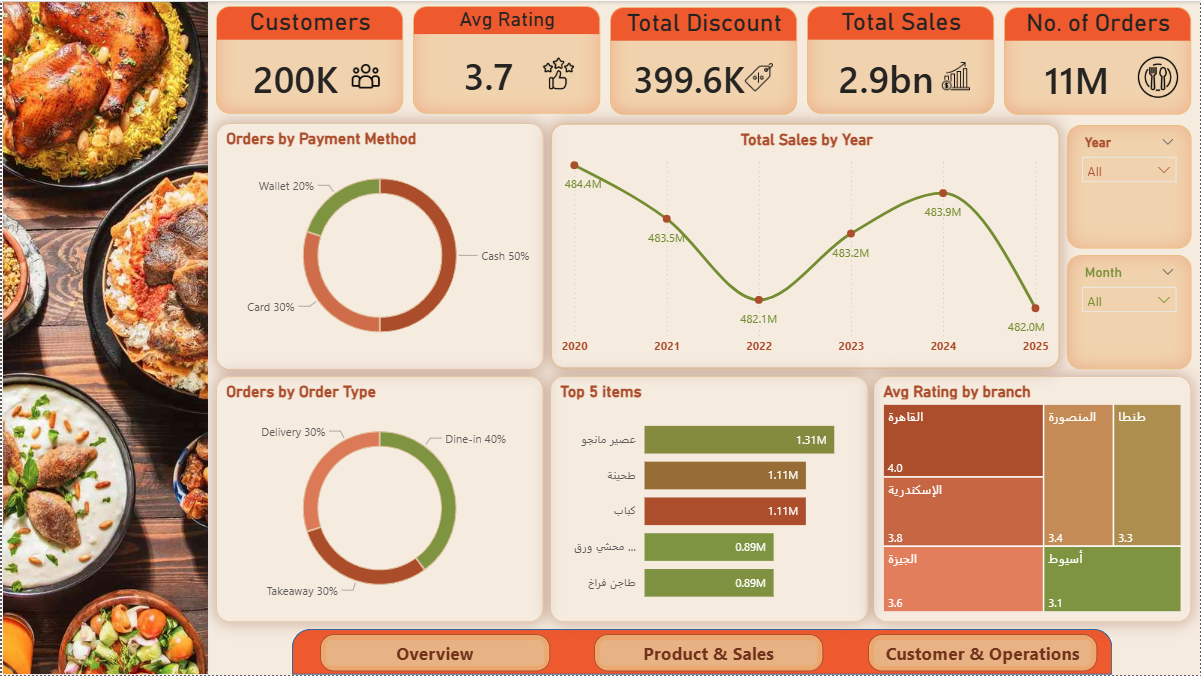

Layout of this report page (visuals, bound fields, positions):
{"tool":"powerbi","page":{"name":"overview ","canvas":[1280,720],"ordinal":0},"visuals":[{"type":"image","box":[0,0,221,720.3],"z":0},{"type":"cardVisual","title":"Total Discount","fields":{"Data":["Table_Measures.Total Discount"]},"box":[649.8,6.9,199.6,115.4],"z":1000},{"type":"cardVisual","title":"Total Sales","fields":{"Data":["Table_Measures.Total Sales"]},"box":[860.3,5.8,199.6,115.4],"z":2000},{"type":"cardVisual","title":"No. of Orders","fields":{"Data":["Table_Measures.No. of Orders"]},"box":[1070.8,6.9,199.6,115.4],"z":3000},{"type":"shape","box":[310,671.2,876.2,48.8],"z":4000},{"type":"lineChart","title":"Total Sales by Year","fields":{"Y":["Table_Measures.Total Sales"],"Category":["dim_date.order_date.Variation.Date Hierarchy.Year"]},"box":[585,130.4,544.6,263.1],"z":5000},{"type":"treemap","fields":{"Group":["dim_brach.branch"],"Values":["Table_Measures.Avg Rating"]},"box":[930,400.4,340.4,263.1],"z":6000},{"type":"cardVisual","title":"Customers","fields":{"Data":["Table_Measures.NO. of Customers"]},"box":[228.5,5.8,200,115.4],"z":7000},{"type":"donutChart","title":"Orders by Payment Method","fields":{"Category":["dim_payment.payment_method"],"Y":["Table_Measures.No. of Orders"]},"box":[228.8,130,350,263.8],"z":8000},{"type":"shape","box":[339.2,676.2,245.8,40.4],"z":9000},{"type":"shape","box":[632.7,676.2,245,40],"z":10000},{"type":"shape","box":[925.4,676.2,245,40.4],"z":11000},{"type":"donutChart","title":"Orders by Order Type","fields":{"Y":["Table_Measures.No. of Orders"],"Category":["dim_order_type.order_type"]},"box":[228.5,400.4,349.6,263.1],"z":12000},{"type":"barChart","title":"Top 5 items","fields":{"Category":["dim_product.item_name"],"Y":["Table_Measures.No. of Orders"]},"box":[585,400.4,340.4,263.1],"z":13000},{"type":"slicer","title":"00","fields":{"Values":["dim_date.year"]},"box":[1137.7,132.7,132.7,131.5],"z":15000},{"type":"slicer","title":"00","fields":{"Values":["dim_date.Month"]},"box":[1137.7,271.2,132.7,122.3],"z":16000},{"type":"cardVisual","title":"Avg Rating","fields":{"Data":["Table_Measures.Avg Rating"]},"box":[439.3,5.8,199.6,115.4],"z":17000}]}

Visuals, with their boxes in screenshot pixels (x1, y1, x2, y2), scaled from the page's 1280x720 canvas onto the 1201x676 screenshot:
image: [0, 0, 207, 675]
"Total Discount" cardVisual: [610, 6, 797, 115]
"Total Sales" cardVisual: [807, 5, 994, 114]
"No. of Orders" cardVisual: [1005, 6, 1192, 115]
shape: [291, 630, 1113, 675]
"Total Sales by Year" lineChart: [549, 122, 1060, 369]
treemap - dim_brach.branch x Table_Measures.Avg Rating: [873, 376, 1192, 623]
"Customers" cardVisual: [214, 5, 402, 114]
"Orders by Payment Method" donutChart: [215, 122, 543, 370]
shape: [318, 635, 549, 673]
shape: [594, 635, 824, 672]
shape: [868, 635, 1098, 673]
"Orders by Order Type" donutChart: [214, 376, 542, 623]
"Top 5 items" barChart: [549, 376, 868, 623]
"00" slicer: [1067, 125, 1192, 248]
"00" slicer: [1067, 255, 1192, 369]
"Avg Rating" cardVisual: [412, 5, 599, 114]
